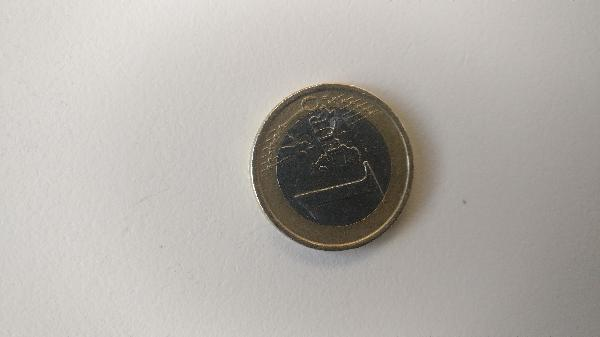One Euro: (252, 82, 414, 253)
